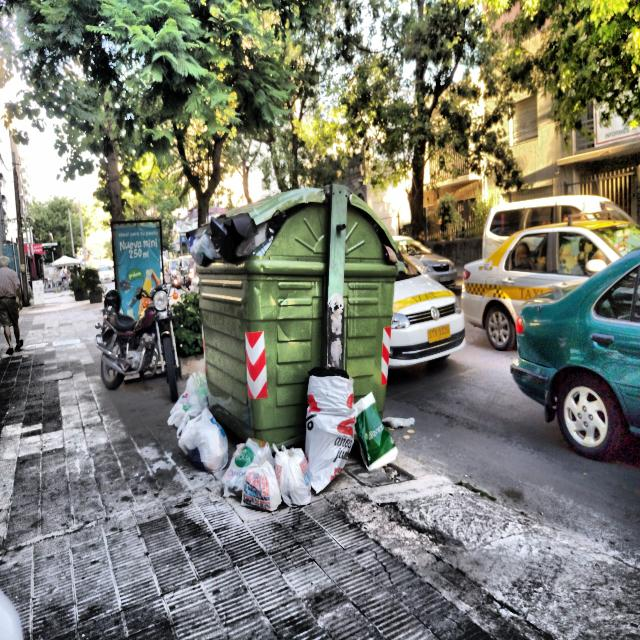garbage: (289, 349, 397, 486), (222, 426, 322, 514), (170, 368, 228, 484)
